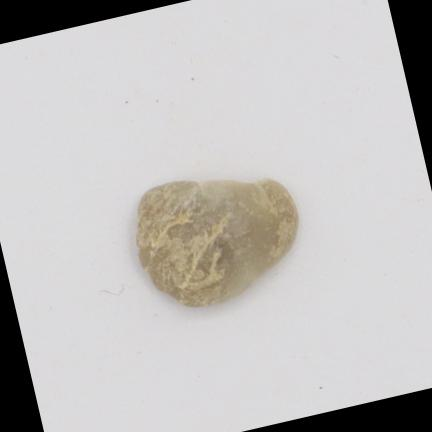shell: (137, 179, 298, 305)
